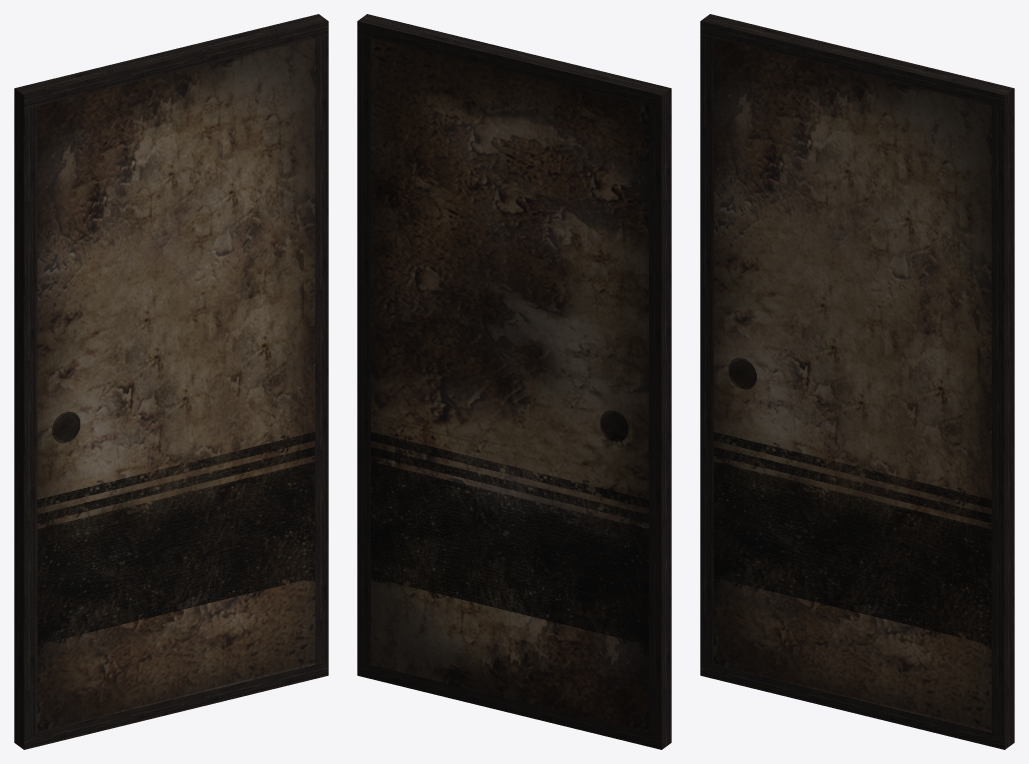
The model's file is hiraku_fusuma.fbx.
3 renders of one model, left to right at view 1: azimuth 30°, elevation 25°; view 2: azimuth 150°, elevation 25°; view 3: azimuth 330°, elevation 25°, orthographic.
Parts seen in each view (by area): view 1: fusuma; view 2: fusuma; view 3: fusuma.
Part boxes in pixels (left/top/right/bottom): fusuma: left=14, top=14, right=328, bottom=749; fusuma: left=357, top=14, right=671, bottom=749; fusuma: left=700, top=14, right=1014, bottom=749.
Bounding box in the file's own units: 90 × 185 × 4.96.
